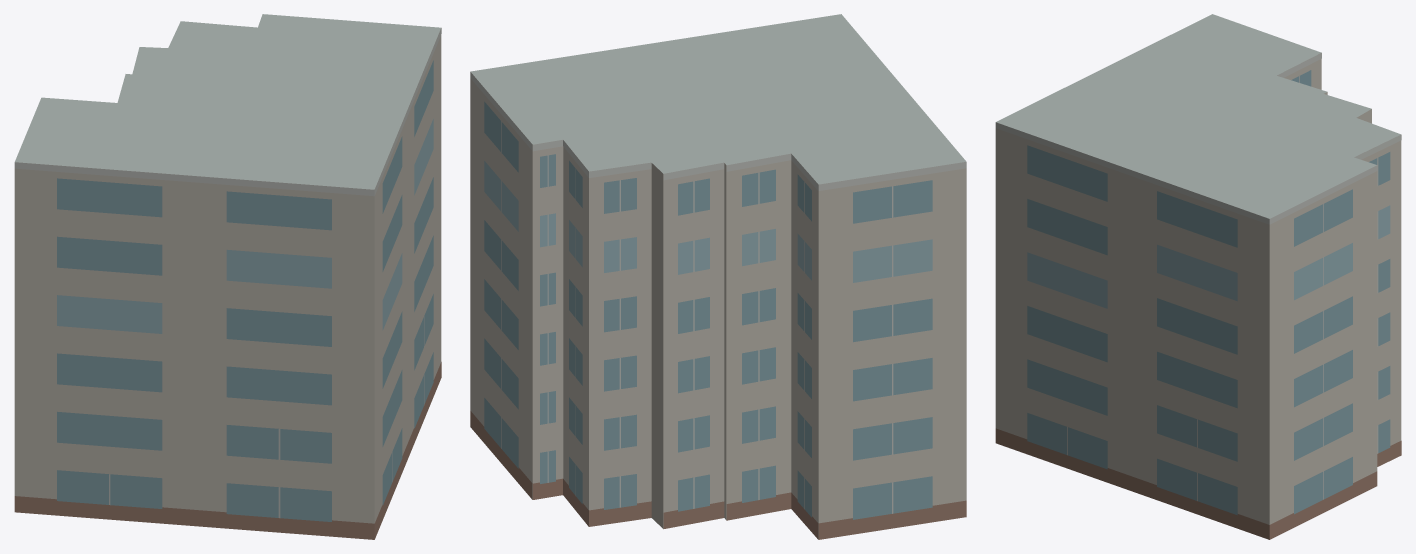
The model's file is survey-upis-32886901.glb.
The picture shows the model from 3 angles, left to right: view 1: azimuth 30°, elevation 25°; view 2: azimuth 150°, elevation 25°; view 3: azimuth 270°, elevation 25°; orthographic projection. The views are drawn at different scales.
Parts seen in each view (by area): view 1: survey-upis-32886901.tmp; view 2: survey-upis-32886901.tmp; view 3: survey-upis-32886901.tmp.
Part boxes in pixels (<box>): survey-upis-32886901.tmp: <box>14,14,441,539</box>; survey-upis-32886901.tmp: <box>470,14,966,539</box>; survey-upis-32886901.tmp: <box>995,14,1401,539</box>.
Bounding box in the file's own units: 18.08 × 13.2 × 15.13.
